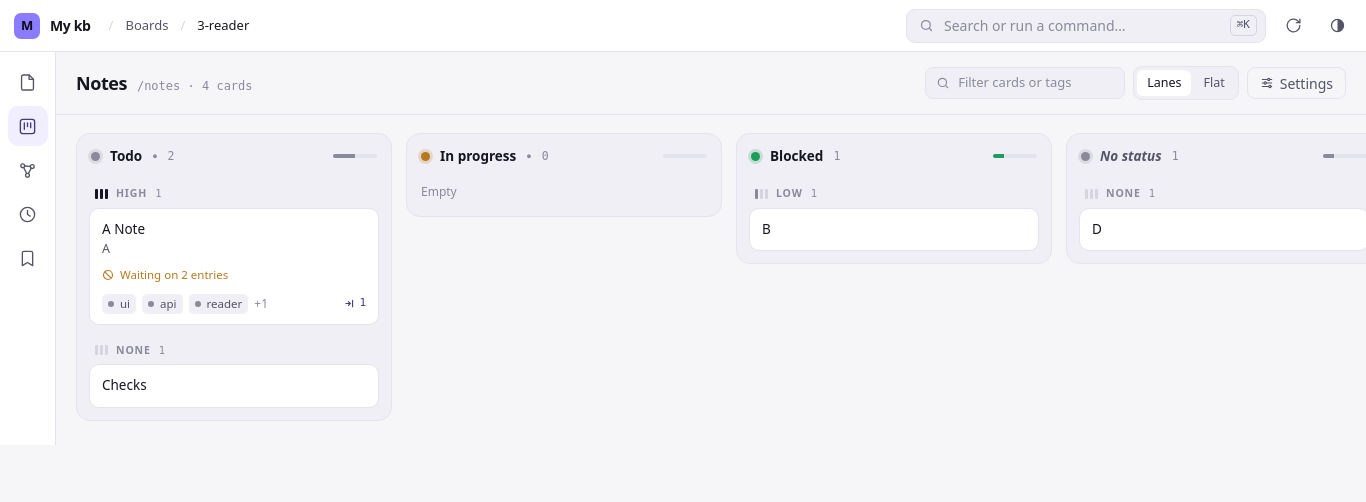
Test: returning to entries from a board opens the front door
The image size is (1366, 502).
Click the button named "Entries": (28, 82) x1=8 y1=62 x2=48 y2=102
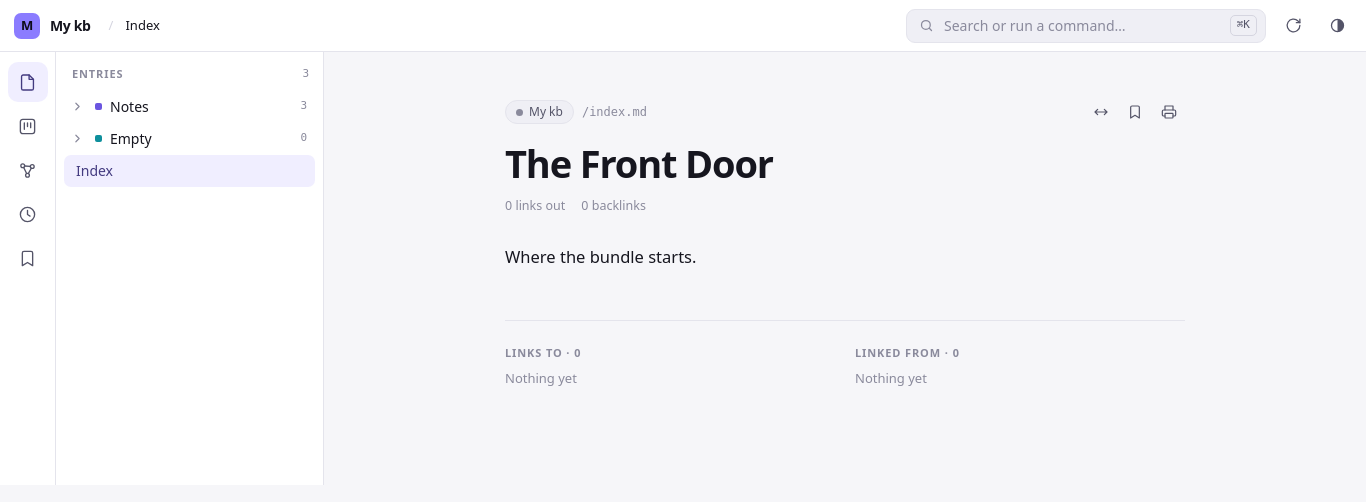
Expected: the element that starts with "My kb" shows "Where the bundle starts.", x1=505 y1=245 x2=696 y2=268
